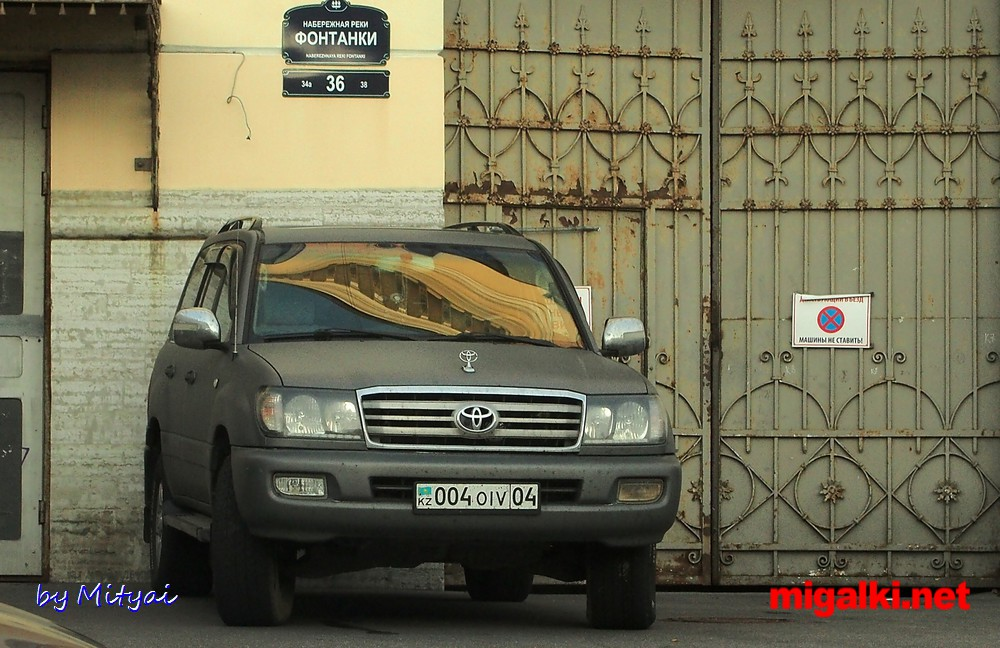license_plate: (416, 482, 541, 511)
